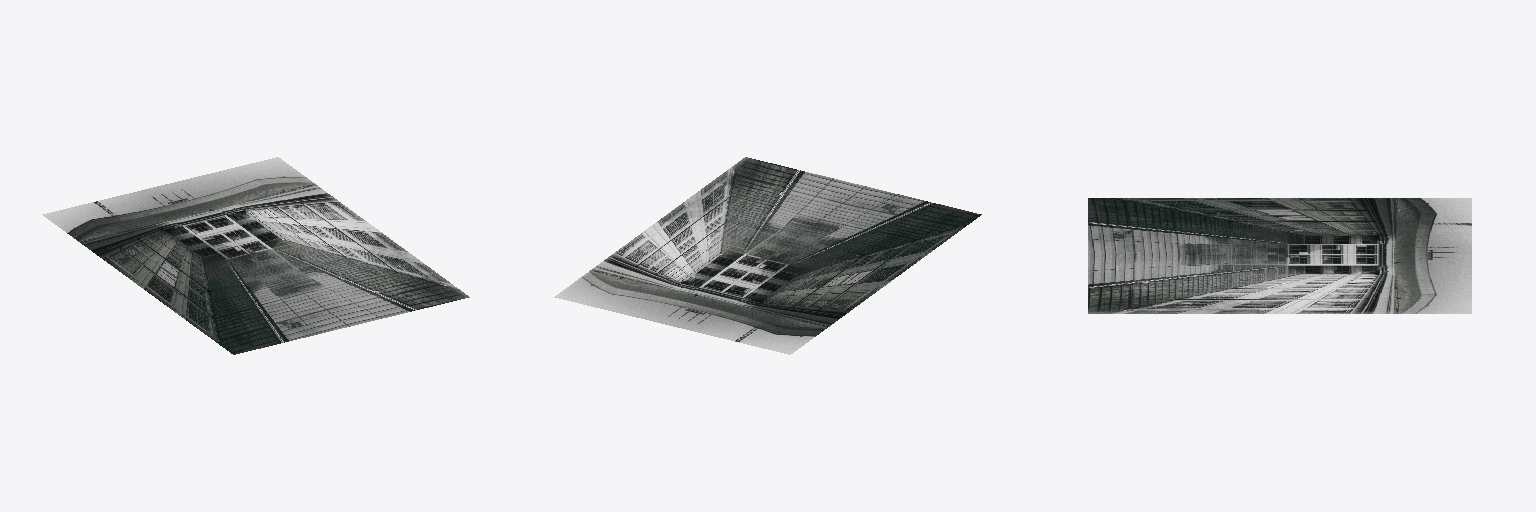
The picture shows the model from 3 angles: view 1: azimuth 30°, elevation 25°; view 2: azimuth 150°, elevation 25°; view 3: azimuth 270°, elevation 25°; orthographic projection.
Visible parts, largest first — view 1: Plane001; view 2: Plane001; view 3: Plane001.
Part boxes in pixels (x1,y1,x2,y2): Plane001: (42,157,469,354); Plane001: (554,157,981,354); Plane001: (1088,198,1471,313).
Bounding box in the file's own units: 2.81 × 0 × 3.94.
1 materials, 1 textured.